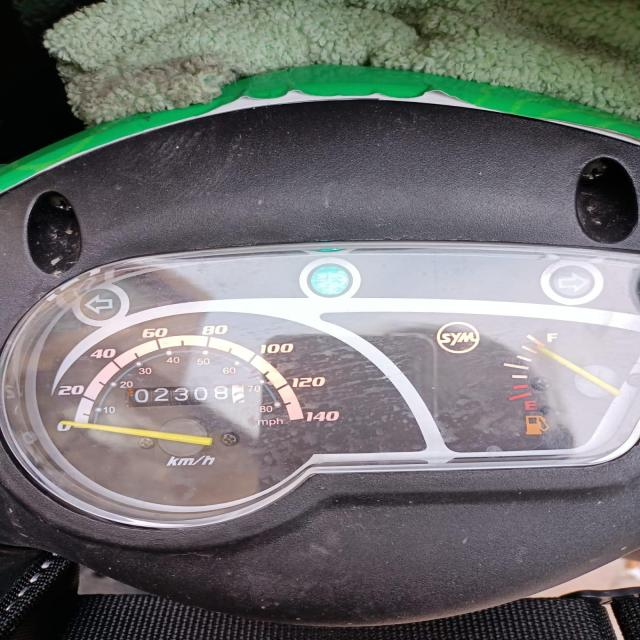odometer: (126, 382, 247, 408)
